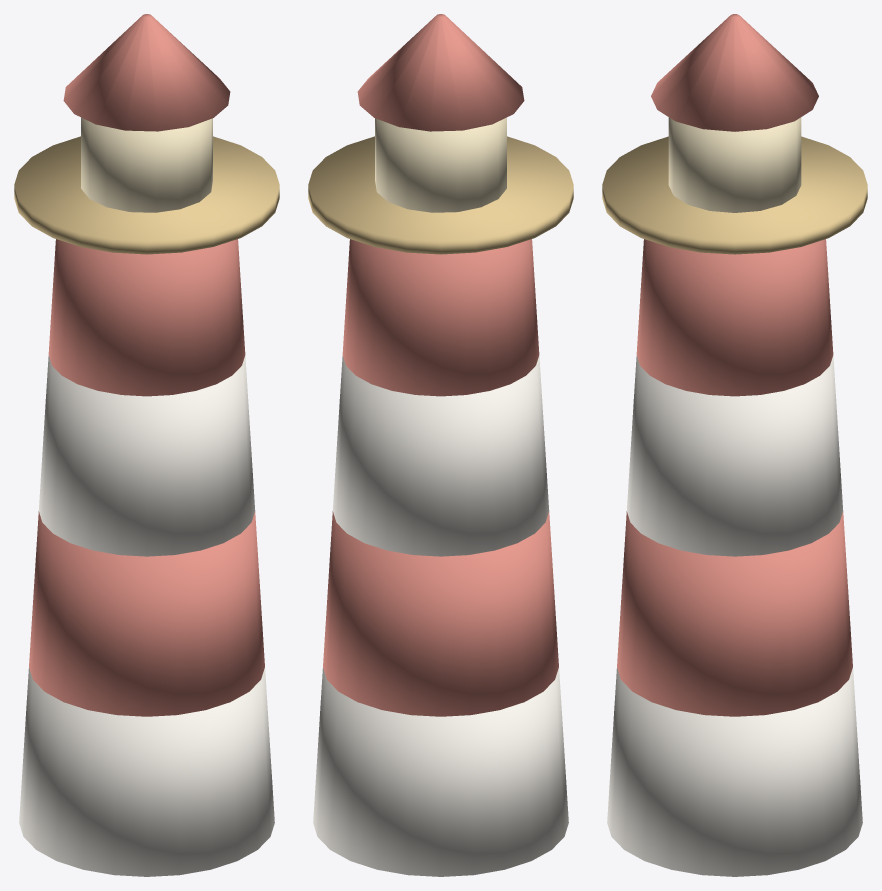
Rendered from lighthouse.glb.
3 renders of one model, left to right at view 1: azimuth 30°, elevation 25°; view 2: azimuth 150°, elevation 25°; view 3: azimuth 270°, elevation 25°, orthographic.
Visible parts, largest first — view 1: band_0, band_1, band_2, band_3, gallery, roof, lamp; view 2: band_0, band_1, band_2, band_3, gallery, roof, lamp; view 3: band_0, band_1, band_2, band_3, gallery, roof, lamp.
Boxes of the visible parts, x1,y1,x2,y2 form: band_0: (19,668,274,876); band_1: (29,511,264,716); band_2: (38,356,255,556); band_3: (48,239,245,396); gallery: (14,136,279,254); roof: (63,14,230,131); lamp: (81,117,212,212); band_0: (313,668,568,876); band_1: (323,511,558,716); band_2: (332,356,549,556); band_3: (342,239,539,396); gallery: (308,136,573,254); roof: (357,14,524,131); lamp: (375,117,506,212); band_0: (607,668,862,876); band_1: (617,511,852,716); band_2: (626,356,843,556); band_3: (636,239,833,396); gallery: (602,136,867,254); roof: (651,14,818,131); lamp: (668,117,801,212).
Bounding box in the file's own units: 2.7 × 9.05 × 2.7.
